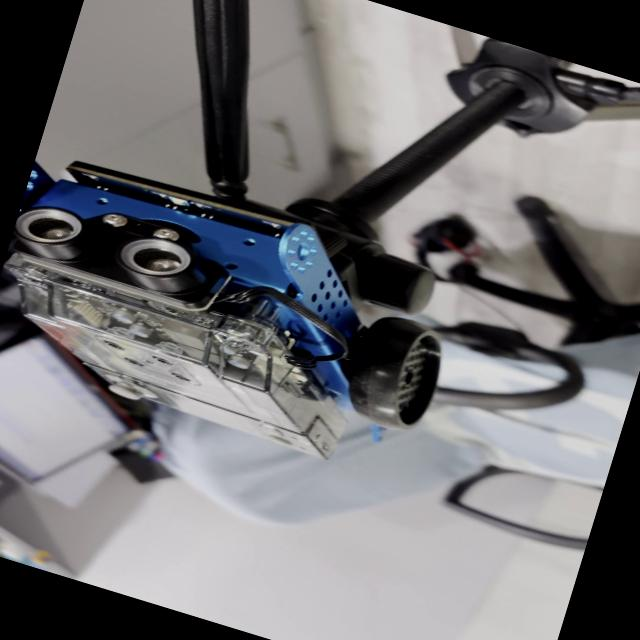mbot-detection: (0, 133, 483, 501)
